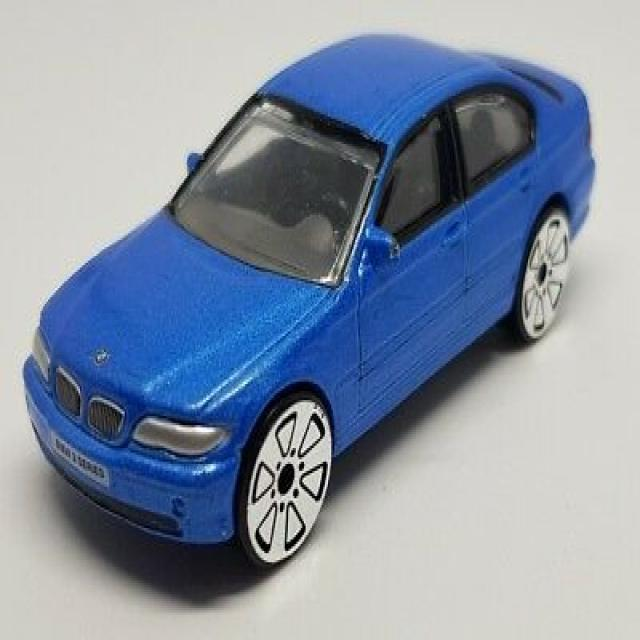Car: (21, 30, 595, 571)
